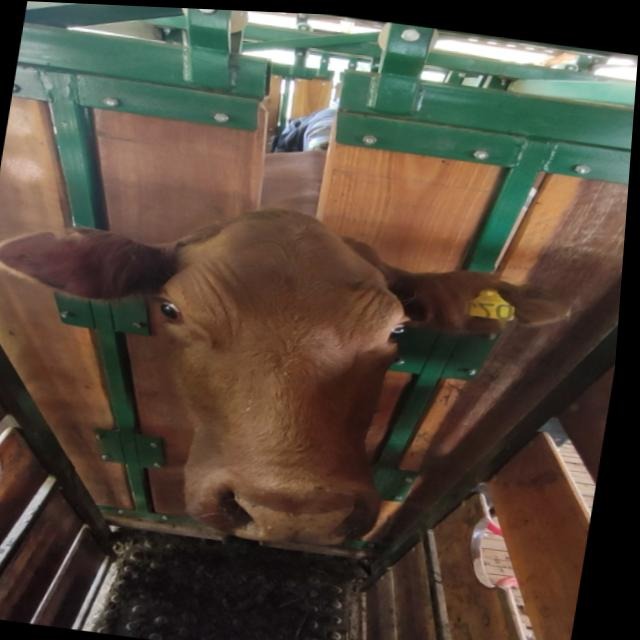cowFace: (127, 192, 426, 550)
